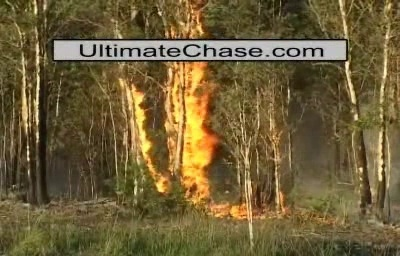fire: (163, 59, 218, 212), (115, 72, 162, 199), (162, 0, 207, 36)
